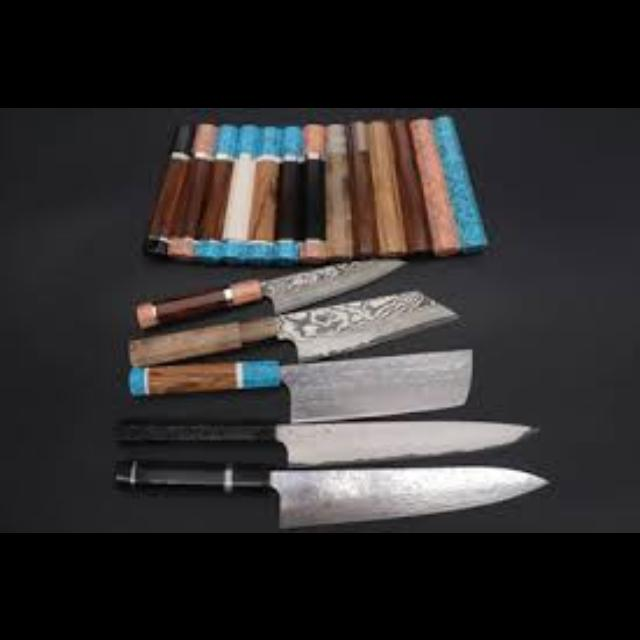knife: (111, 458, 548, 528), (112, 347, 472, 421), (126, 286, 458, 366), (110, 417, 540, 465), (133, 256, 407, 328)
